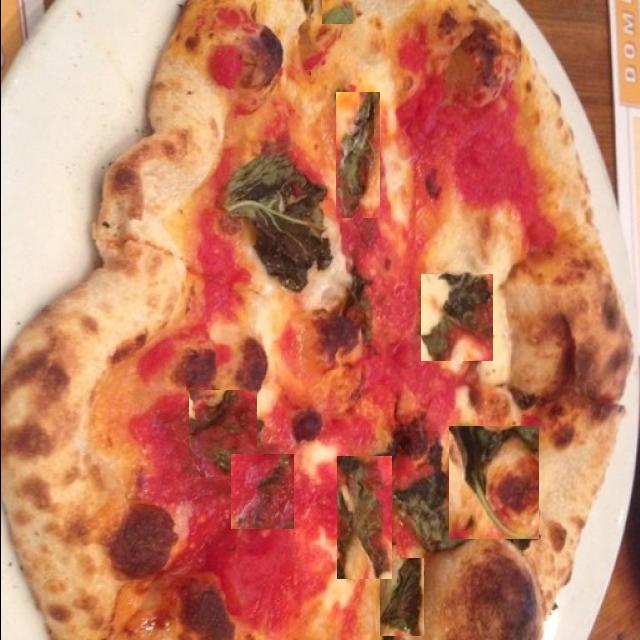basil: (221, 156, 332, 290), (448, 426, 538, 539), (393, 441, 468, 550), (336, 456, 391, 579), (420, 274, 492, 361), (188, 390, 256, 477), (334, 92, 378, 218), (230, 454, 293, 529), (378, 558, 422, 636), (321, 0, 355, 24)
pizza: (0, 0, 636, 640)
